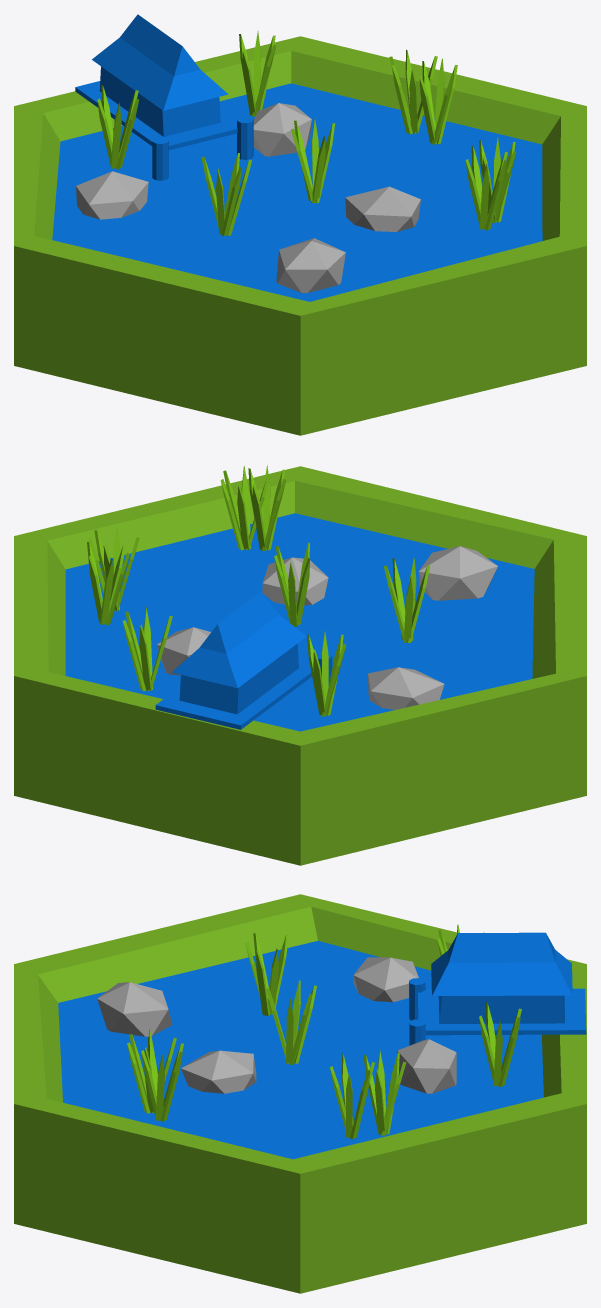
The model's file is Casas_Lago_Cerrado_1.fbx.
3 views of the same model, one above another, from view 1: azimuth 30°, elevation 25°; view 2: azimuth 150°, elevation 25°; view 3: azimuth 270°, elevation 25° (orthographic).
Parts seen in each view (by area): view 1: Casas_Lago_Cerrado_1; view 2: Casas_Lago_Cerrado_1; view 3: Casas_Lago_Cerrado_1.
Part boxes in pixels (x1,y1,x2,y2): Casas_Lago_Cerrado_1: [14, 14, 586, 435]; Casas_Lago_Cerrado_1: [14, 465, 586, 865]; Casas_Lago_Cerrado_1: [14, 894, 586, 1293].
Bounding box in the file's own units: 200 × 67.29 × 173.
